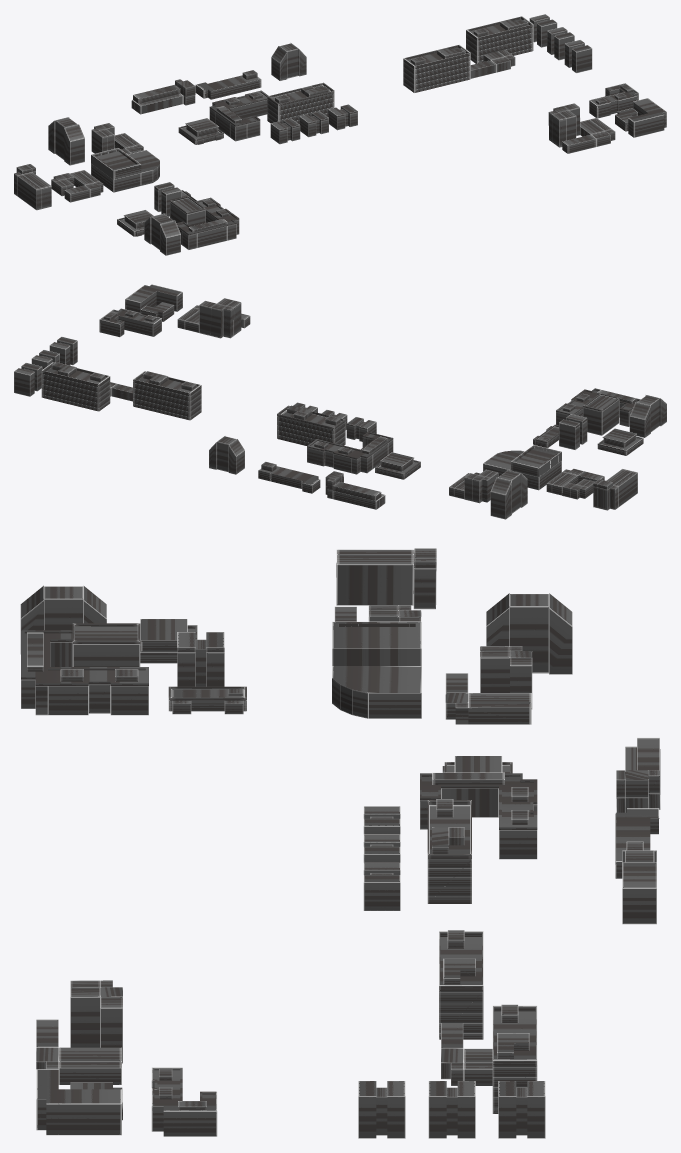
File: 楼群整体.obj
The picture shows the model from 3 angles, top to bottom: view 1: azimuth 30°, elevation 25°; view 2: azimuth 150°, elevation 25°; view 3: azimuth 270°, elevation 25°; orthographic projection. The views are drawn at different scales.
Parts seen in each view (by area): view 1: Box156; view 2: Box156, Box166; view 3: Box156.
Boxes of the visible parts, x1=… form: Box156: x1=14, y1=14, x2=666, y2=255; Box156: x1=14, y1=284, x2=666, y2=519; Box166: x1=140, y1=302, x2=174, y2=321; Box156: x1=20, y1=548, x2=660, y2=1138.
Size of the model in its own units: 30163 by 1727 by 14889.
